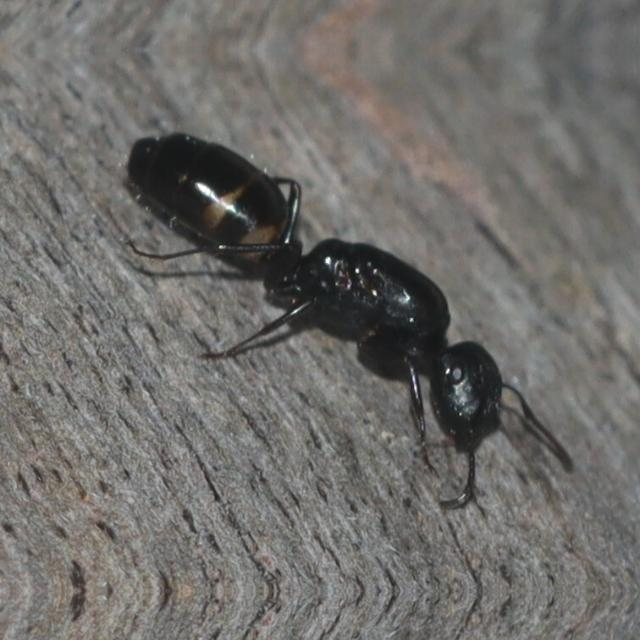Colobopsis: (100, 96, 584, 496)
